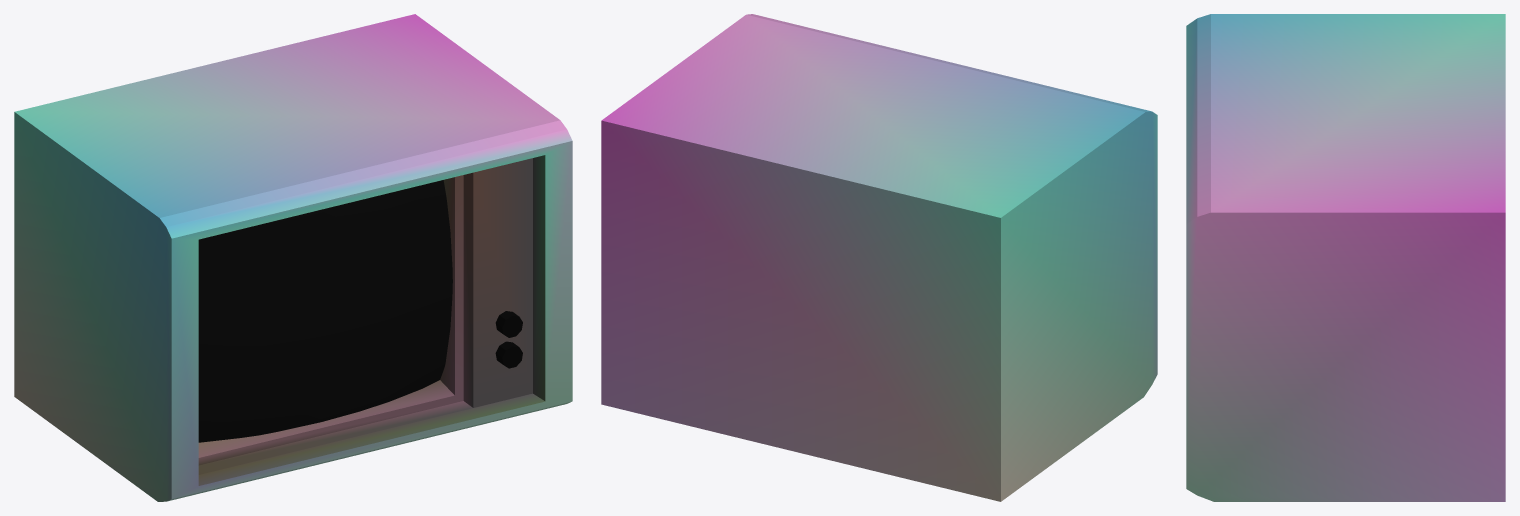
File: monitor.glb
The picture shows the model from 3 angles, left to right: view 1: azimuth 30°, elevation 25°; view 2: azimuth 150°, elevation 25°; view 3: azimuth 270°, elevation 25°; orthographic projection.
Visible parts, largest first — view 1: Cube; view 2: Cube; view 3: Cube.
Part boxes in pixels (bbox=[...]): Cube: bbox=[14, 14, 572, 501]; Cube: bbox=[601, 14, 1157, 501]; Cube: bbox=[1186, 14, 1505, 501].
Bounding box in the file's own units: 2.94 × 2 × 2.
